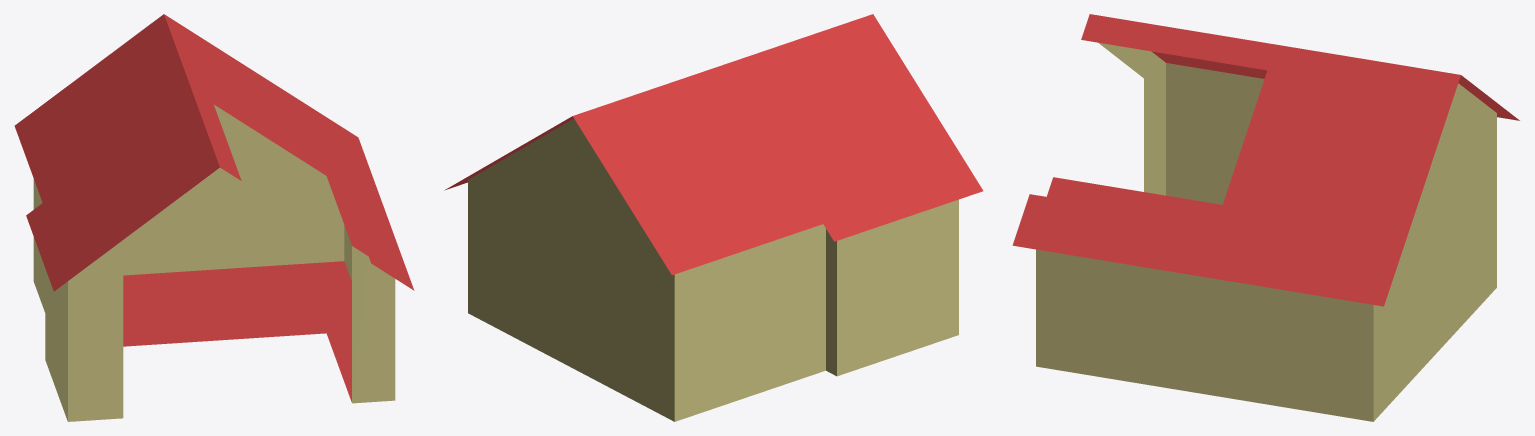
3 views of the same model, side by side, from view 1: azimuth 30°, elevation 25°; view 2: azimuth 150°, elevation 25°; view 3: azimuth 270°, elevation 25° (orthographic). The views are drawn at different scales.
Size of the model in its own units: 28.22 by 27.95 by 16.57.
